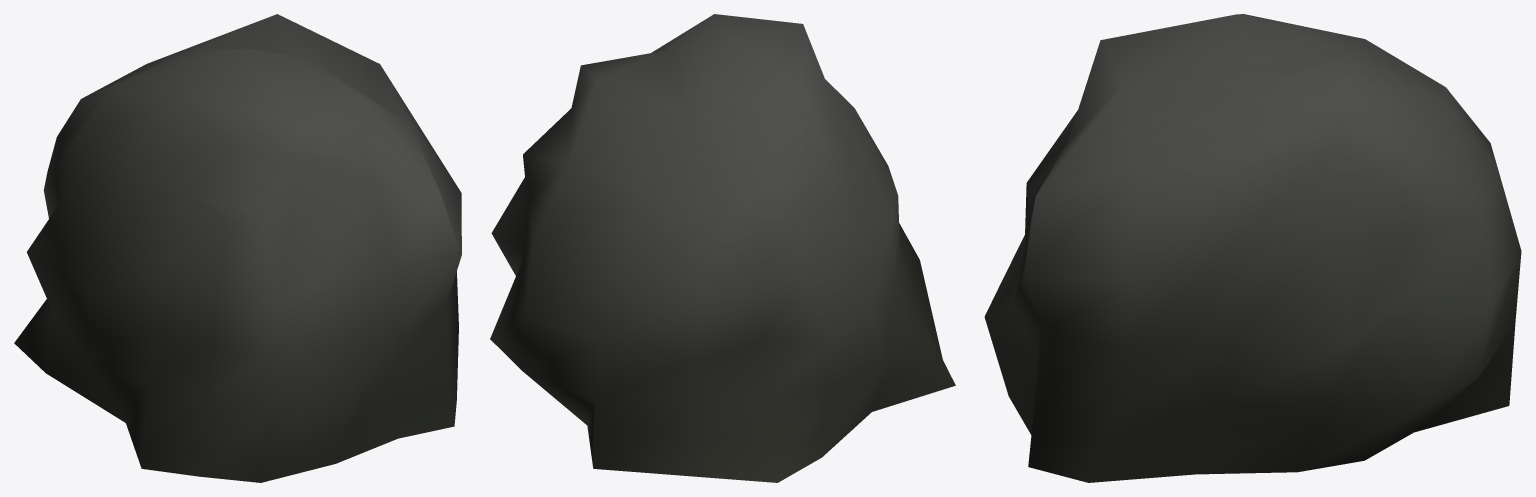
Rendered from WE02_Brush6.fbx.
3 renders of one model, left to right at view 1: azimuth 30°, elevation 25°; view 2: azimuth 150°, elevation 25°; view 3: azimuth 270°, elevation 25°, orthographic. The views are drawn at different scales.
Parts seen in each view (by area): view 1: WE02_Brush6; view 2: WE02_Brush6; view 3: WE02_Brush6.
Part boxes in pixels (x1,y1,x2,y2): WE02_Brush6: [14, 14, 461, 482]; WE02_Brush6: [490, 14, 955, 482]; WE02_Brush6: [984, 14, 1521, 482].
Size of the model in its own units: 7.57 by 7.06 by 8.87.
